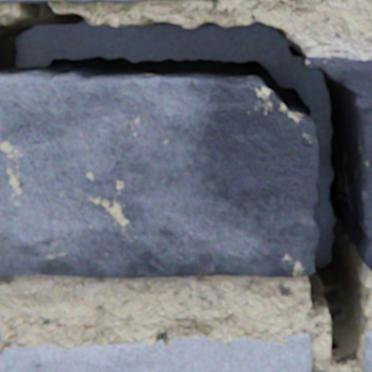brick: (0, 332, 311, 371), (0, 0, 148, 3), (364, 330, 371, 371)
broken_brick: (0, 75, 319, 276), (304, 56, 371, 269)
crack: (0, 2, 371, 370)
